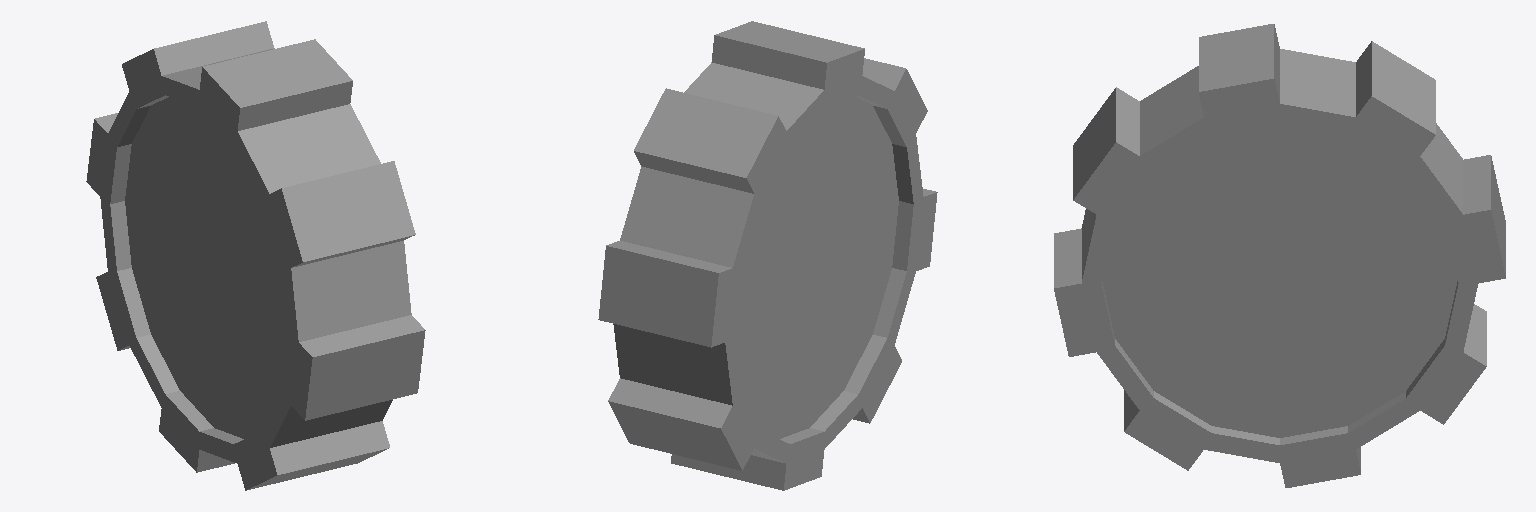
The model's file is GearCoin.obj.
3 views of the same model, side by side, from view 1: azimuth 30°, elevation 25°; view 2: azimuth 150°, elevation 25°; view 3: azimuth 270°, elevation 25° (orthographic).
Parts seen in each view (by area): view 1: Cylinder_Cylinder.001; view 2: Cylinder_Cylinder.001; view 3: Cylinder_Cylinder.001.
Part boxes in pixels (bbox=[...]): Cylinder_Cylinder.001: bbox=[86, 21, 425, 490]; Cylinder_Cylinder.001: bbox=[598, 21, 937, 490]; Cylinder_Cylinder.001: bbox=[1054, 24, 1505, 487].
Size of the model in its own units: 0.23 by 0.7981 by 0.7981.